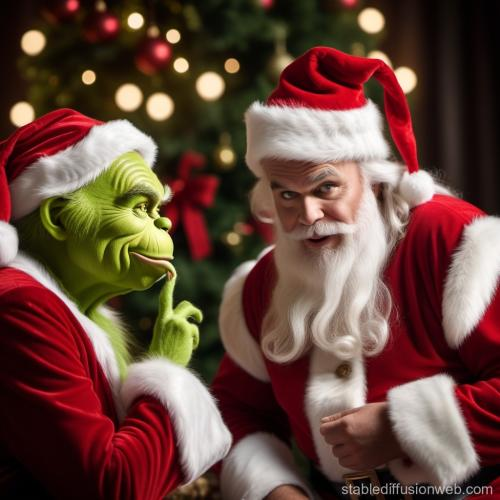Santa: (206, 38, 499, 500)
